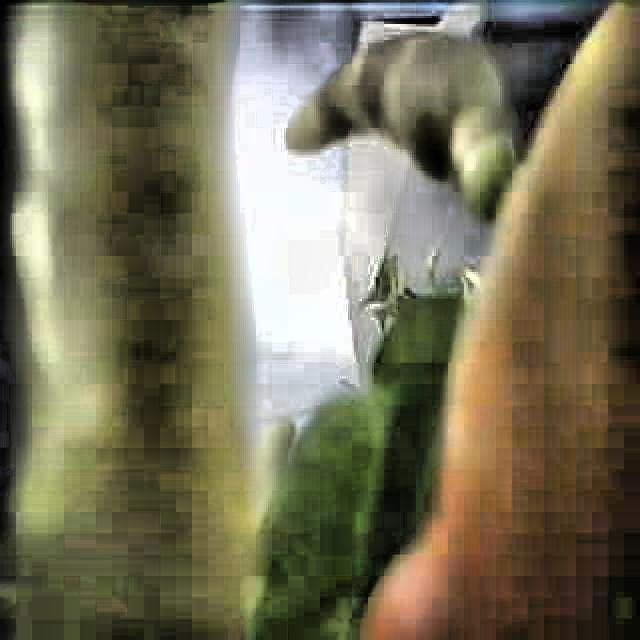Cabai: (40, 0, 237, 640), (286, 0, 524, 202)
